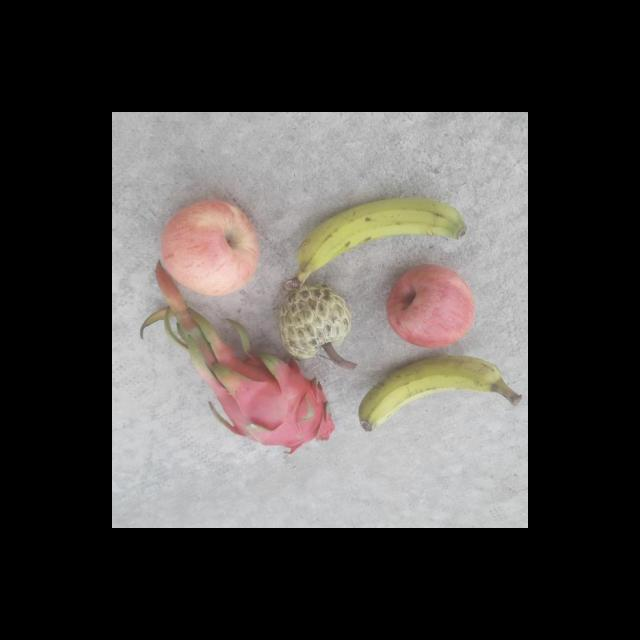Sakya fruit: (278, 287, 350, 359)
apple: (156, 200, 258, 294), (386, 264, 469, 351)
banana: (298, 196, 468, 276), (358, 356, 506, 436)
pitaya: (214, 359, 332, 450)
